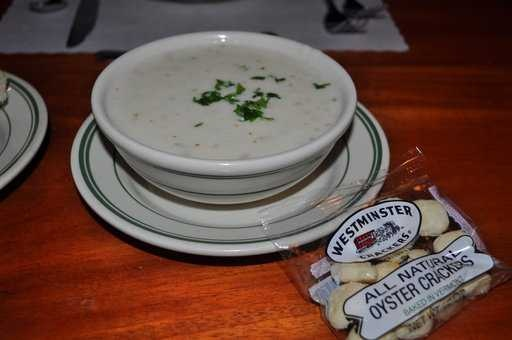soup: (99, 29, 352, 161)
